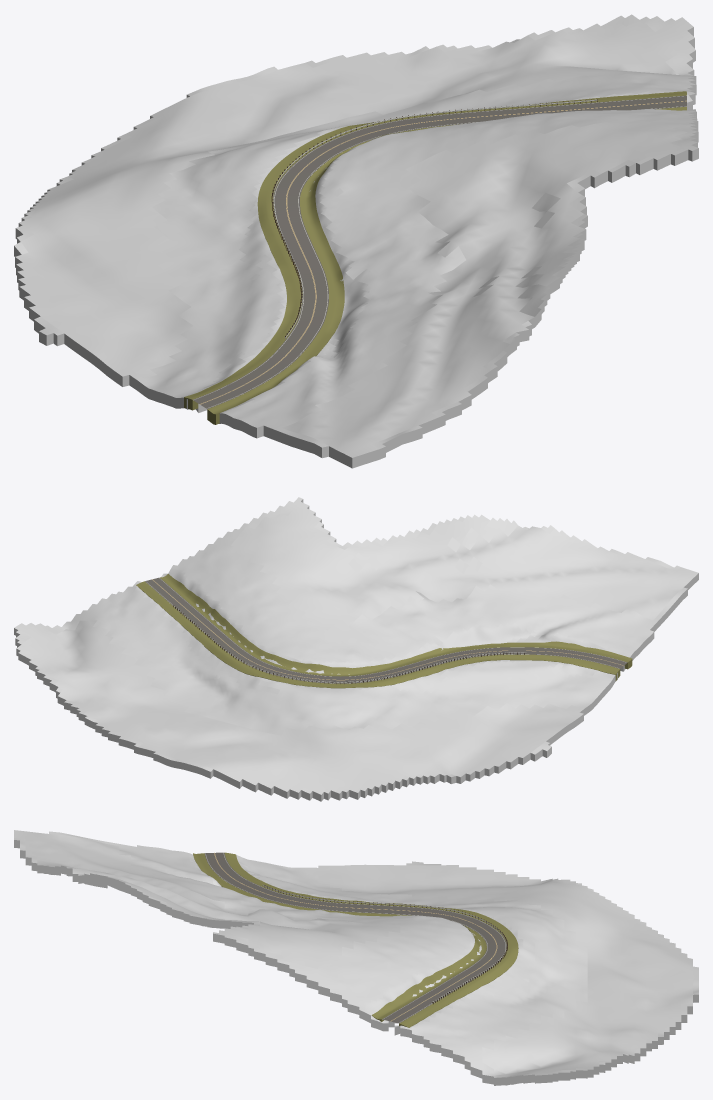
File: conz_77.glb
3 views of the same model, one above another, from view 1: azimuth 30°, elevation 25°; view 2: azimuth 150°, elevation 25°; view 3: azimuth 270°, elevation 25° (orthographic). The views are drawn at different scales.
Visible parts, largest first — view 1: terrain77, road77, verge77R, verge77L, paint_white77, paint_yellow77, beam77_70975; view 2: terrain77, road77, verge77L, verge77R; view 3: terrain77, road77, verge77R, verge77L, paint_white77, beam77_70975, paint_yellow77.
Boxes of the visible parts, x1,y1,x2,y2 form: terrain77: (14,14,698,468); road77: (193,95,686,408); verge77R: (184,91,686,410); verge77L: (207,106,686,424); paint_white77: (193,95,686,408); paint_yellow77: (200,100,686,404); beam77_70975: (273,99,597,338); terrain77: (14,497,698,801); road77: (145,577,627,683); verge77L: (160,574,632,676); verge77R: (136,581,620,688); terrain77: (14,830,698,1085); road77: (204,852,506,1023); verge77R: (224,852,518,1027); verge77L: (193,853,486,1021); paint_white77: (205,853,505,1023); beam77_70975: (262,885,506,1001); paint_yellow77: (214,852,497,1021).
Bounding box in the file's own units: 216 × 48.04 × 234.
